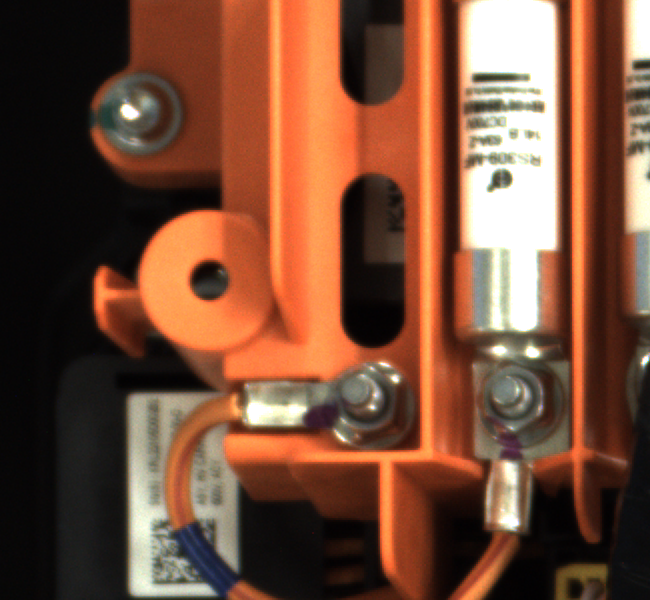screw_m: (101, 71, 204, 167)
screw_s: (473, 353, 585, 462), (313, 354, 419, 450)
